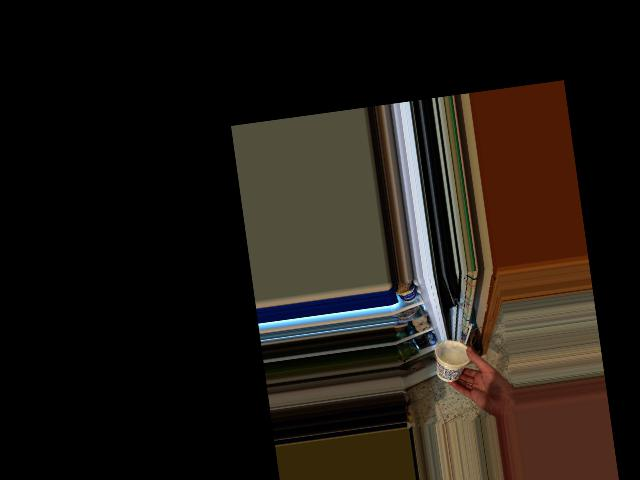cotage: (435, 337, 473, 384)
